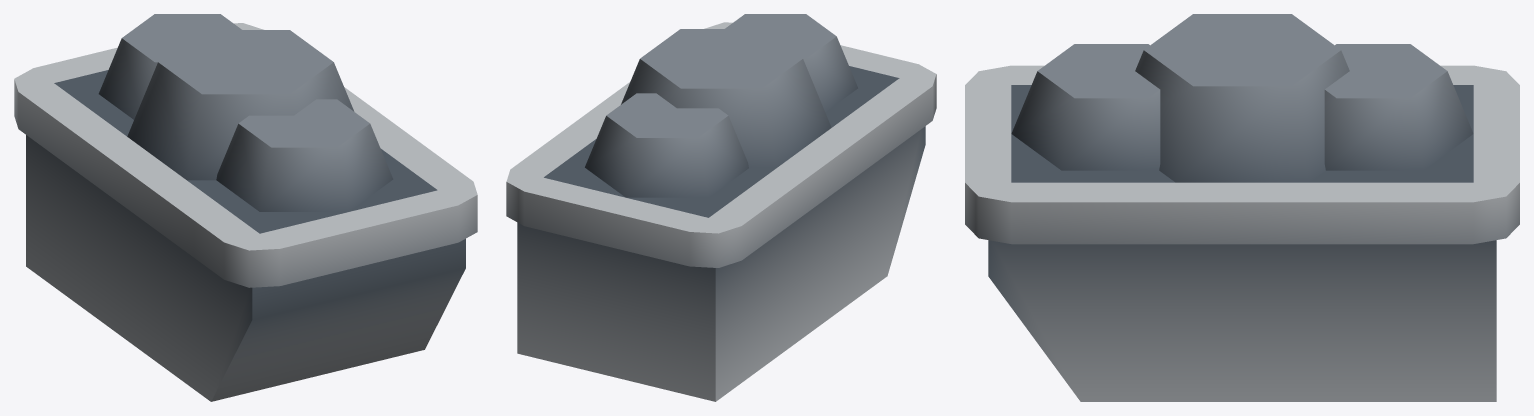
The model's file is skip-rocks.glb.
3 views of the same model, side by side, from view 1: azimuth 30°, elevation 25°; view 2: azimuth 150°, elevation 25°; view 3: azimuth 270°, elevation 25° (orthographic). The views are drawn at different scales.
Visible parts, largest first — view 1: skip-rocks; view 2: skip-rocks; view 3: skip-rocks.
Part boxes in pixels (x1,y1,x2,y2): skip-rocks: (14,14,477,401); skip-rocks: (506,14,936,401); skip-rocks: (965,14,1519,401).
Size of the model in its own units: 0.7 by 0.7 by 1.2.
